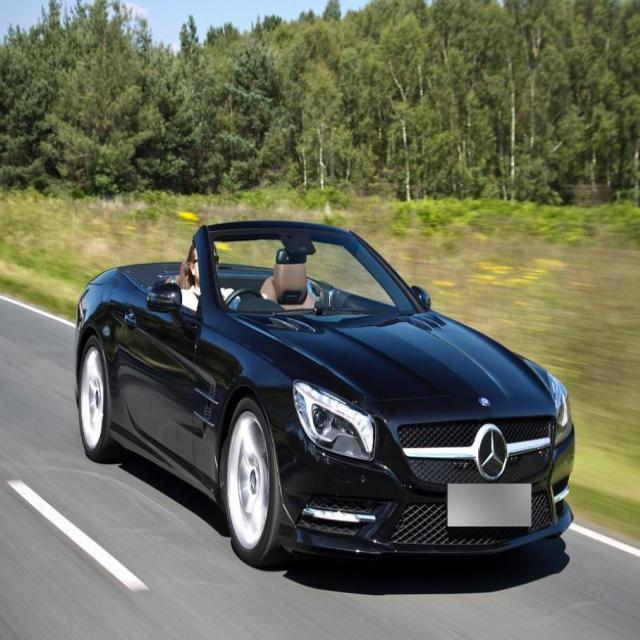front_bumper: (264, 421, 580, 564)
front_glass: (208, 223, 416, 323)
front_left_side_light: (540, 363, 573, 433)
front_left_side_mirror: (409, 281, 435, 311)
front_right_side_door: (111, 281, 212, 502)
front_right_side_light: (289, 374, 376, 463)
front_right_side_mirror: (145, 275, 191, 327)
wheel: (218, 394, 294, 566), (75, 327, 131, 463)
